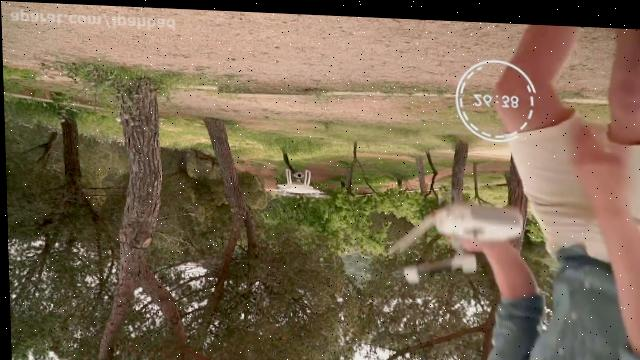drone: (267, 164, 331, 199)
